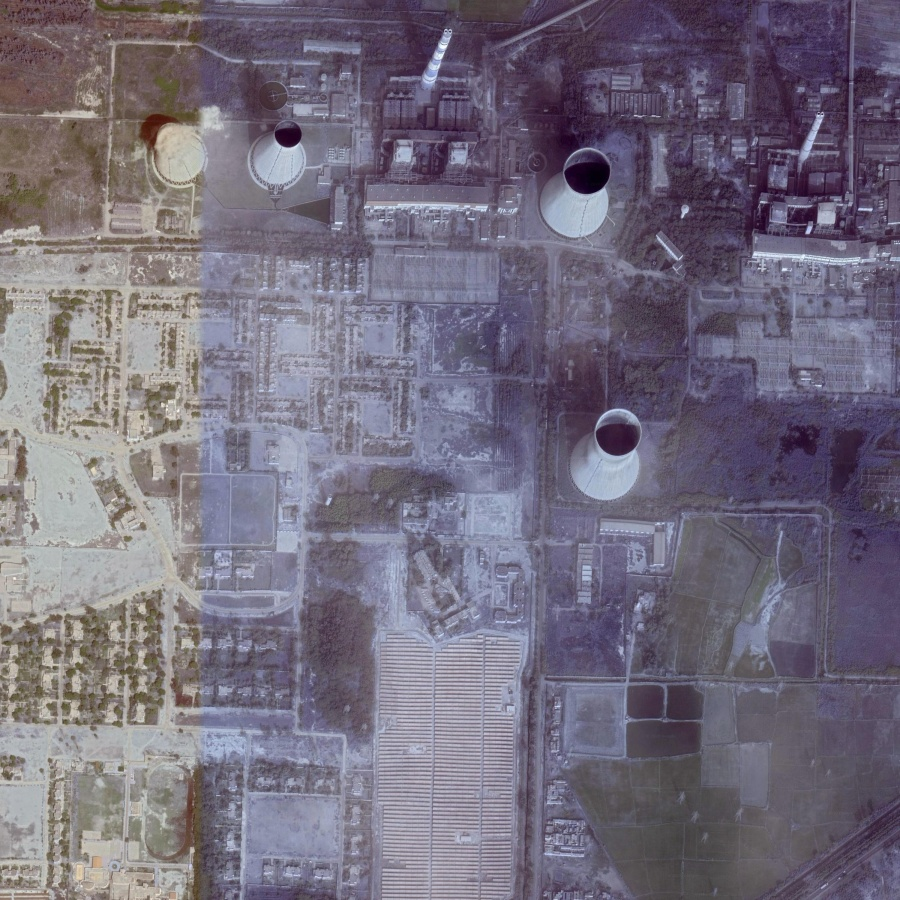PowerPlant: (550, 396, 794, 670)
